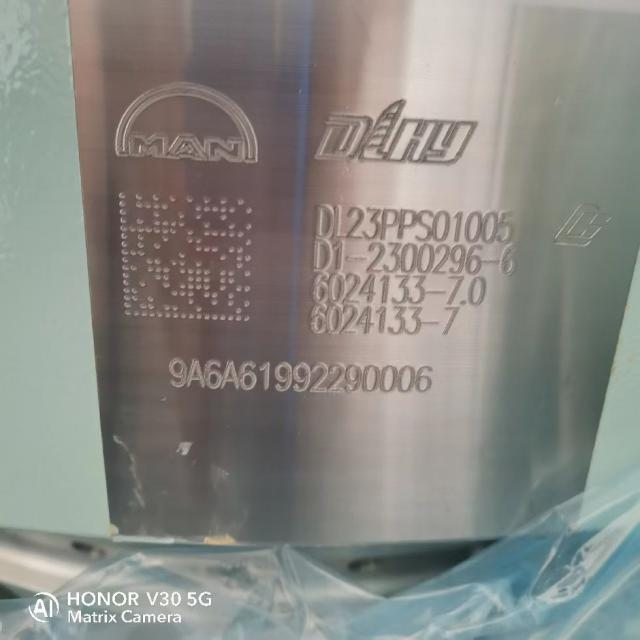dmc: (119, 193, 252, 322)
